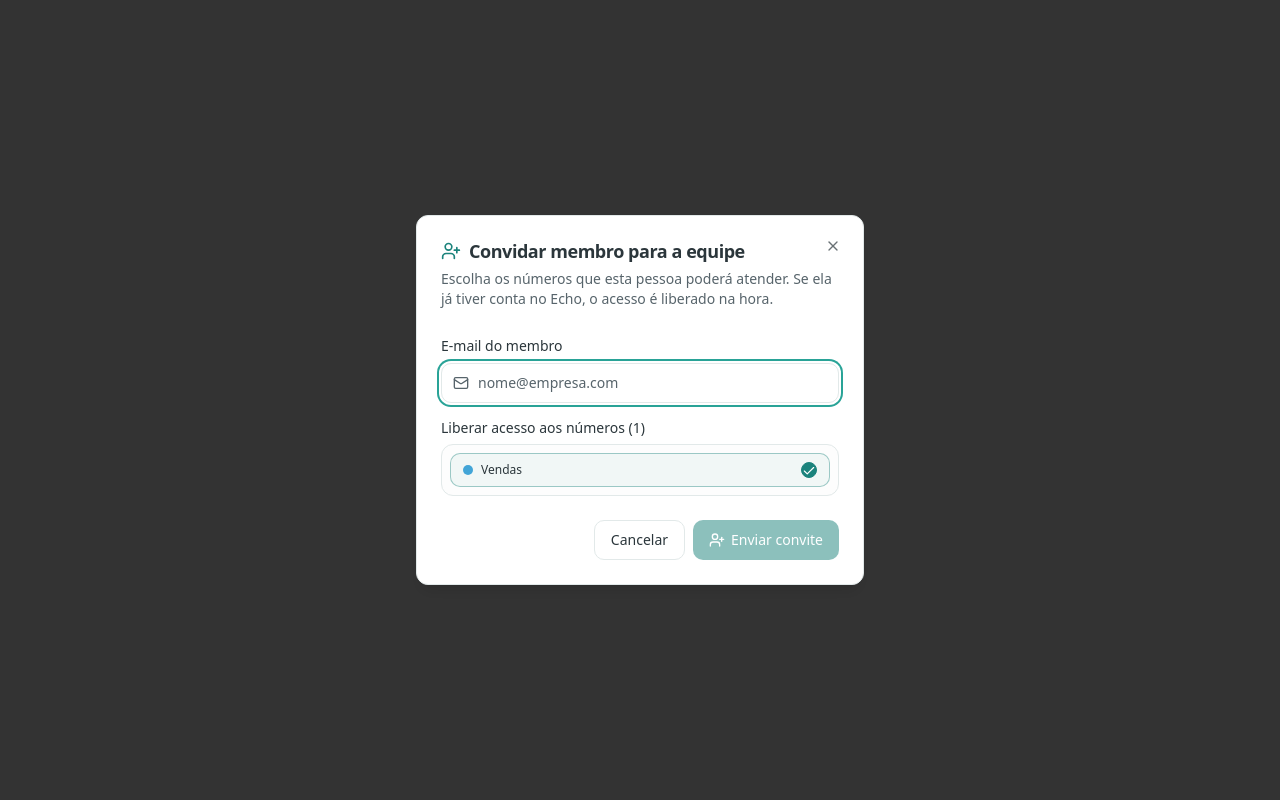
Test case: InviteMemberDialog: link do convite › sem e-mail na instalação mostra o link por número, só leitura, e explica
In the field labelled "E-mail do membro": (640, 382) [441, 362, 839, 402], type "agente@example.com"
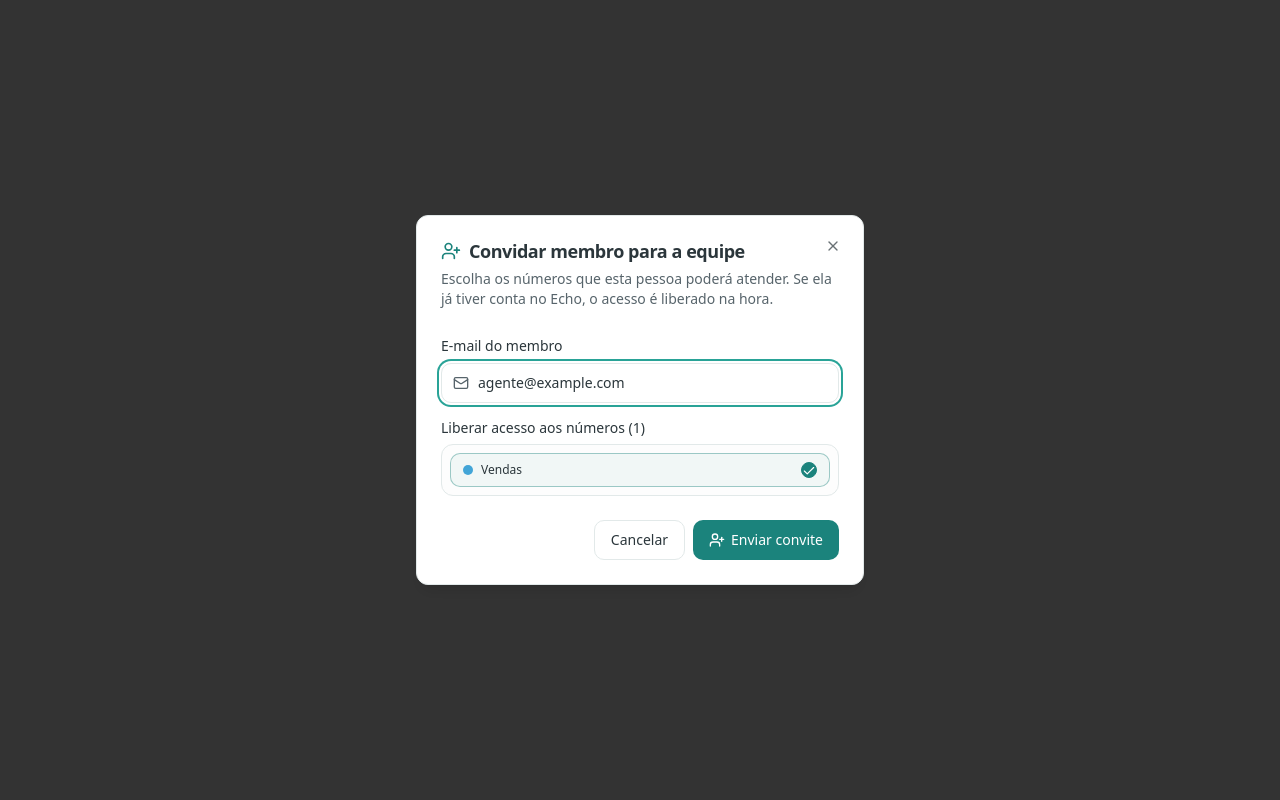
Click the button "Enviar convite": (766, 540) [693, 520, 839, 560]
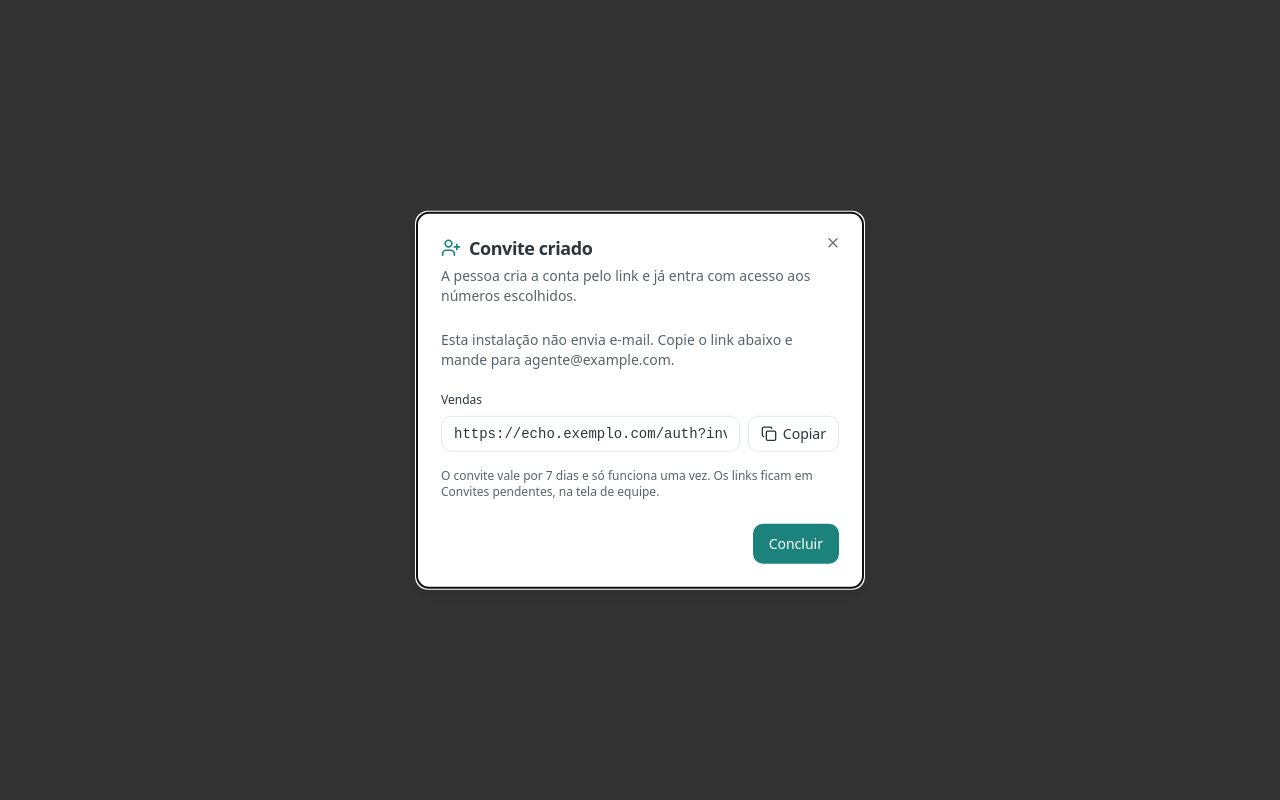
expect the text "Esta instalação não envia e-mail" is shown: met, box [441, 329, 793, 368]
expect the field labelled "Vendas" holds "https://echo.exemplo.com/auth?invite=token-1": met, box [441, 415, 740, 451]
expect the label labelled "E-mail do membro" is gone: met
